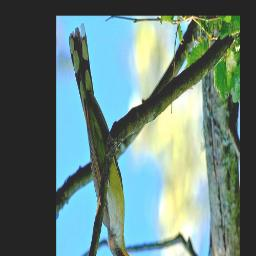Cuckoo: (69, 25, 134, 256)
